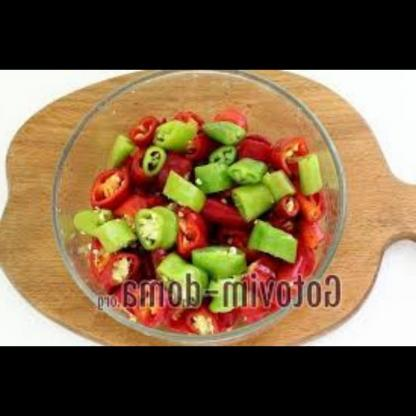hot pepper: (66, 105, 338, 336)
